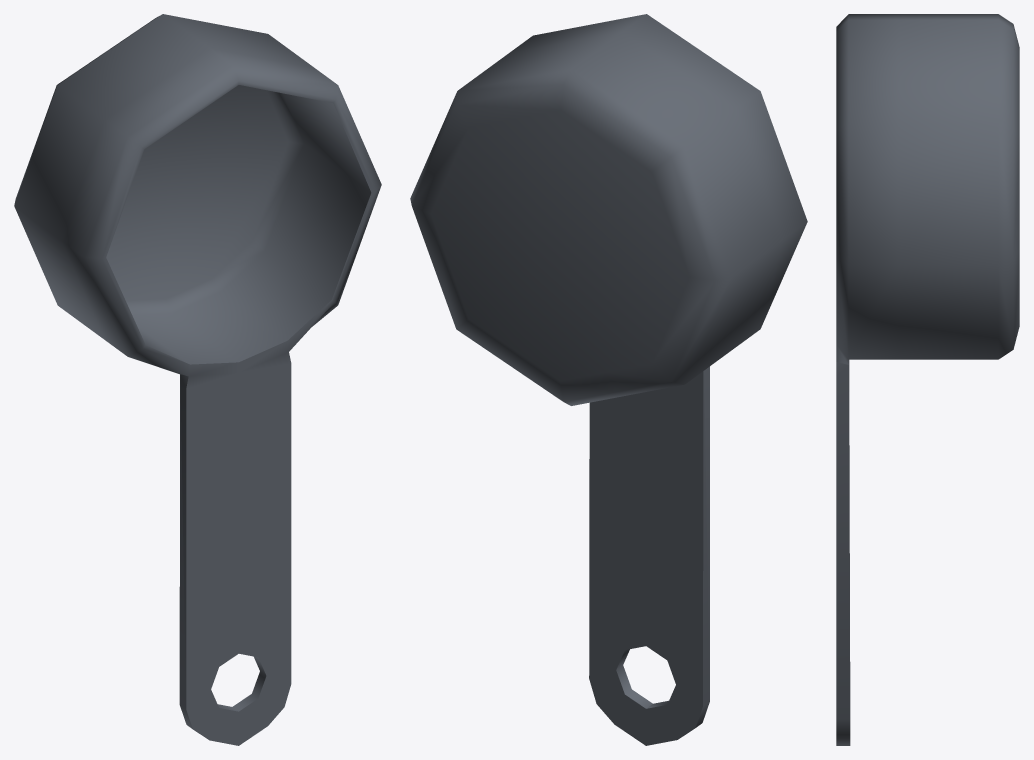
The model's file is cooking_assets_measuring_spoon.glb.
3 renders of one model, left to right at view 1: azimuth 30°, elevation 25°; view 2: azimuth 150°, elevation 25°; view 3: azimuth 270°, elevation 25°, orthographic. The views are drawn at different scales.
Visible parts, largest first — view 1: mspoon_measuring_spoons_large_Cylinder.039; view 2: mspoon_measuring_spoons_large_Cylinder.039; view 3: mspoon_measuring_spoons_large_Cylinder.039.
Part boxes in pixels (<box>): mspoon_measuring_spoons_large_Cylinder.039: <box>14,14,381,745</box>; mspoon_measuring_spoons_large_Cylinder.039: <box>410,14,807,745</box>; mspoon_measuring_spoons_large_Cylinder.039: <box>836,14,1019,745</box>.
Bounding box in the file's own units: 1.62 × 3.52 × 0.8082.
Materials: 1 (1 with a texture image).
